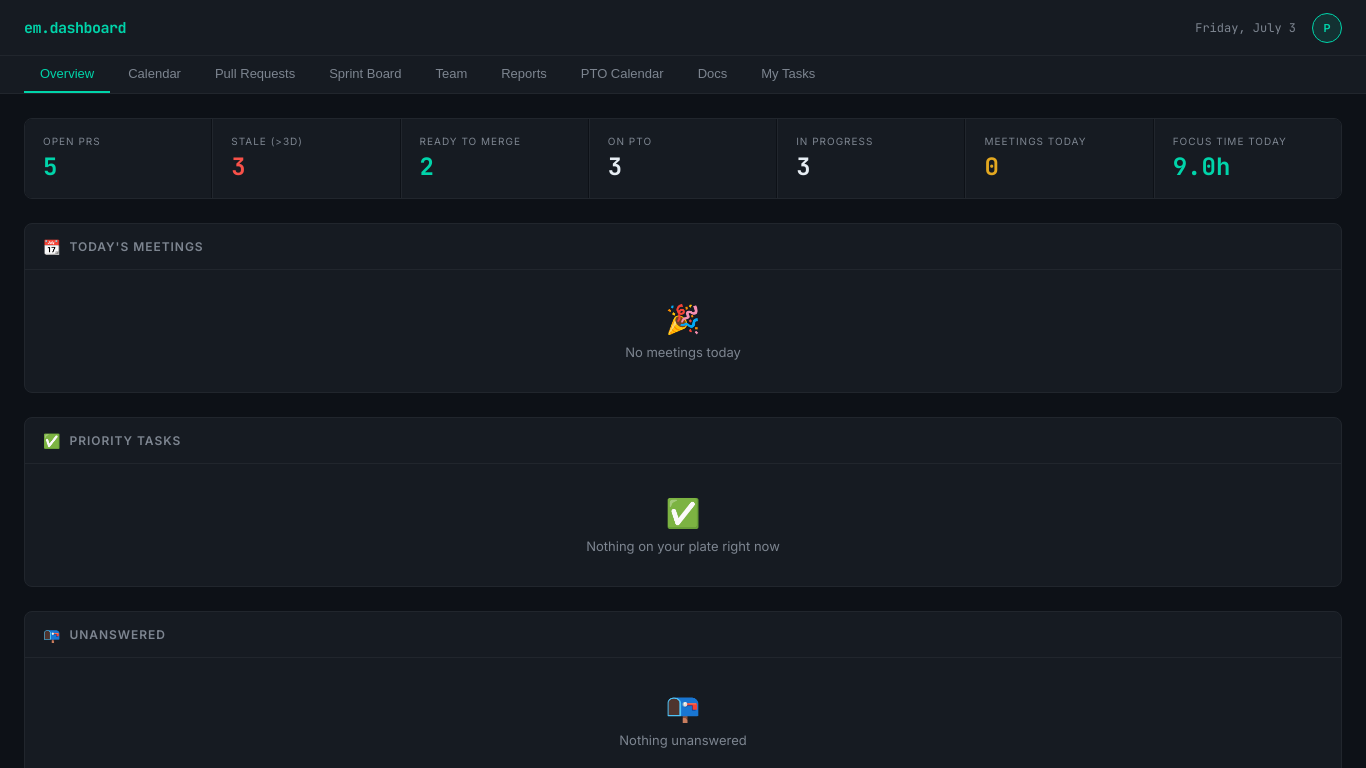
App — tab navigation › Pull Requests tab still shows the full PRList
Expected: the text "Today's Meetings" is shown, [69,239,204,254]
Click the button "Pull Requests". click: click(255, 74)
box: [199,56,311,93]
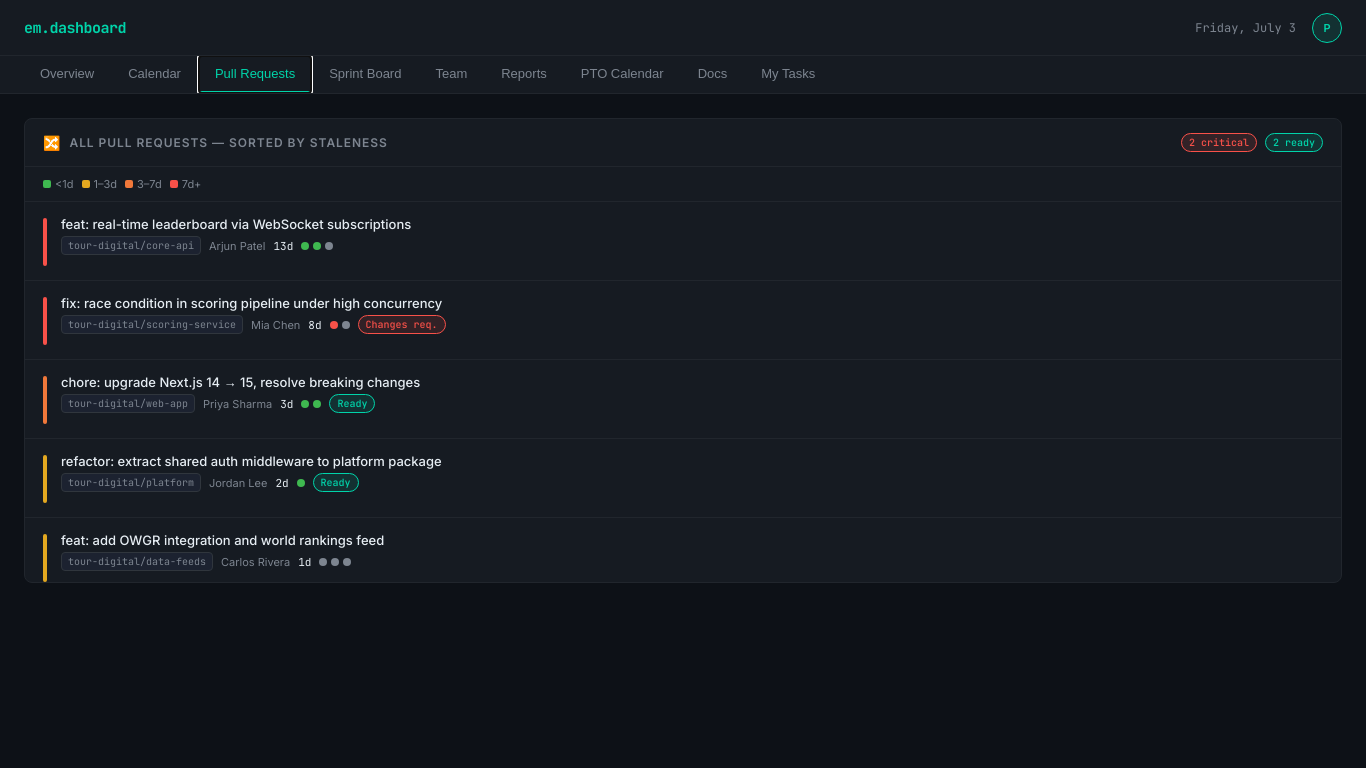
Now the text "🔀 All Pull Requests — sorted by staleness" is shown, box [43,134,388,151]
